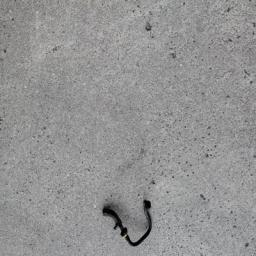FOD: (101, 198, 163, 249)
